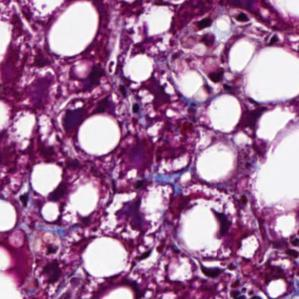inflammation: (97, 189, 150, 241), (179, 14, 216, 52)
